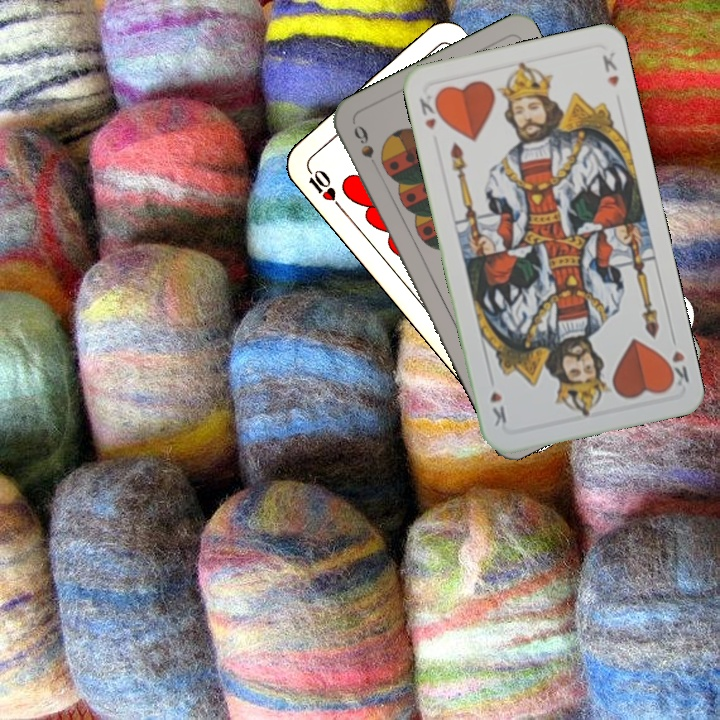H10: (302, 161, 344, 212)
HK: (660, 330, 692, 390), (415, 89, 445, 133)
S9: (349, 121, 380, 172)
